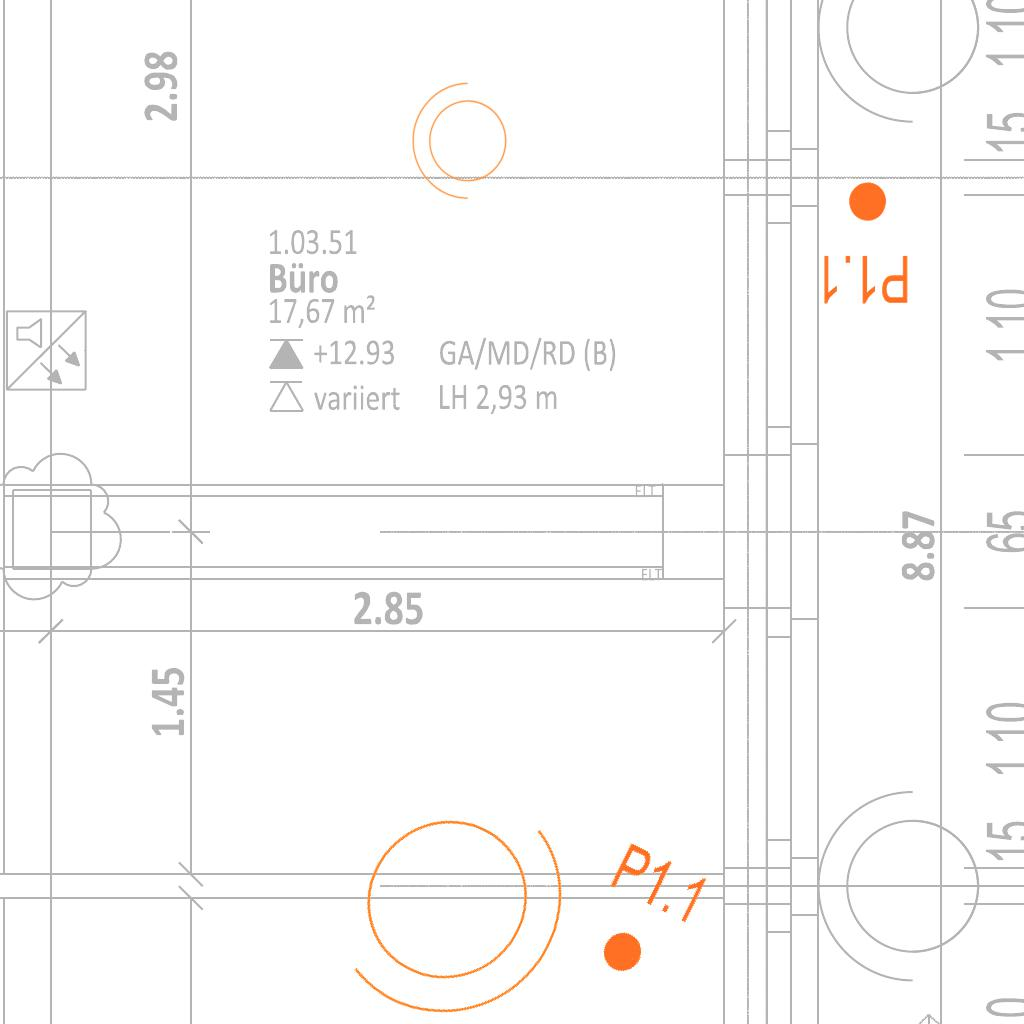Downlight_LED_Einbauleuchten_Flur: (573, 838, 714, 994), (818, 179, 911, 307)
Scheinwerfer_fuer_Alarmbeleuchtung: (284, 734, 632, 1024), (407, 78, 519, 210)
